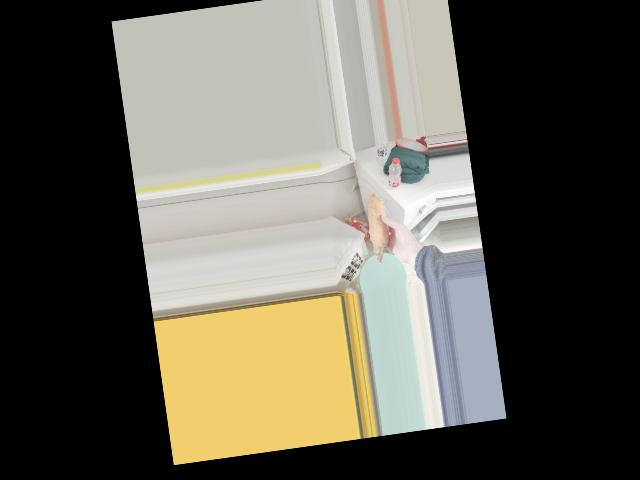sweet_potato: (365, 200, 394, 258)
